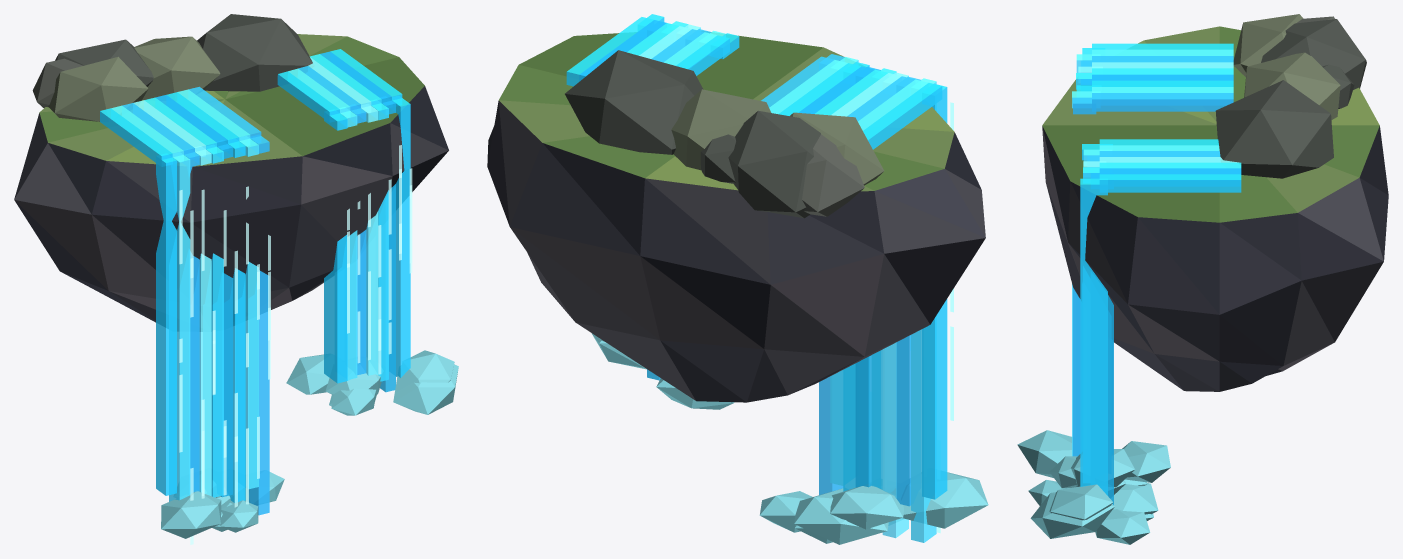
The model's file is cascade-waterfall.glb.
3 views of the same model, side by side, from view 1: azimuth 30°, elevation 25°; view 2: azimuth 150°, elevation 25°; view 3: azimuth 270°, elevation 25° (orthographic). The views are drawn at different scales.
Visible parts, largest first — view 1: Cascade_Waterfall; view 2: Cascade_Waterfall; view 3: Cascade_Waterfall.
Part boxes in pixels (<box>): Cascade_Waterfall: <box>14,14,458,544</box>; Cascade_Waterfall: <box>487,14,988,544</box>; Cascade_Waterfall: <box>1017,14,1388,544</box>.
Size of the model in its own units: 2.76 by 2.69 by 1.89.
